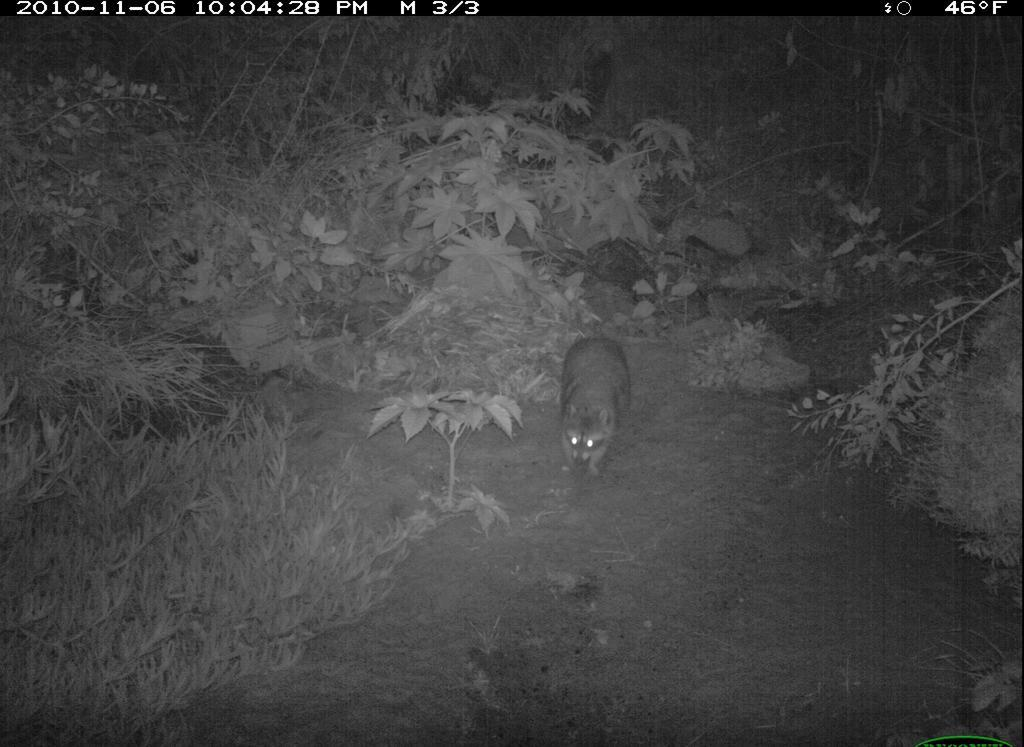raccoon: (543, 329, 642, 489)
